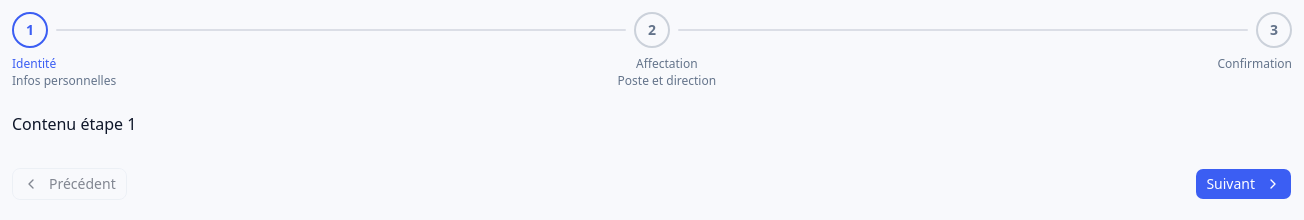
Test: Stepper — navigation › avance à l'étape suivante en cliquant Suivant
The image size is (1304, 220).
Step 1. Click the button with test id "stepper-next-button" → point(1244, 184), box [1195, 168, 1292, 200]
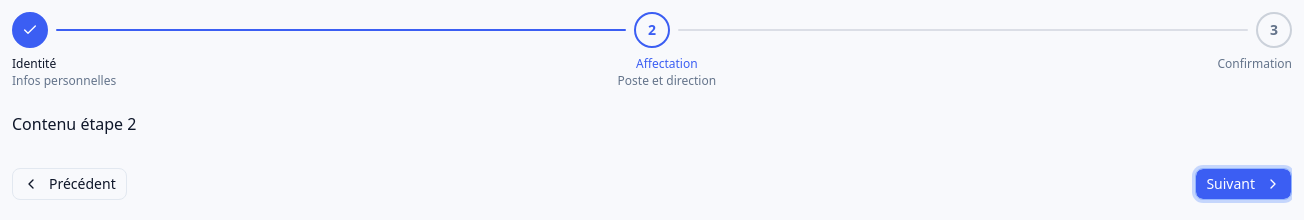
Now the text "Contenu étape 2" is shown, box [12, 113, 136, 135]
Now the text "Contenu étape 1" is gone
